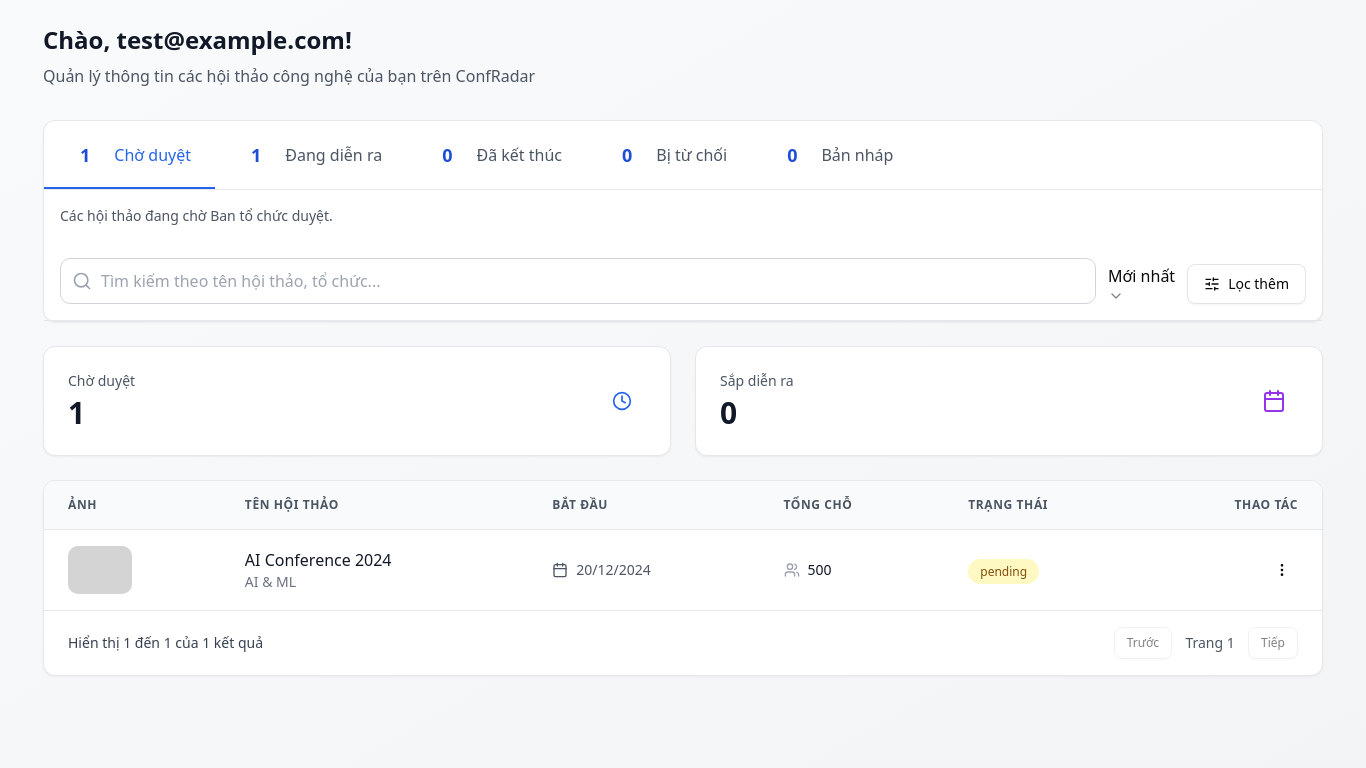
Test case: ConferenceManagementTabs Component › displays tab description based on active tab
The image size is (1366, 768).
Expected: the text "Các hội thảo đang chờ Ban tổ chức duyệt." is shown, x1=60 y1=206 x2=333 y2=225
Click the text "Bị từ chối" at (692, 155), box x1=656 y1=143 x2=727 y2=167
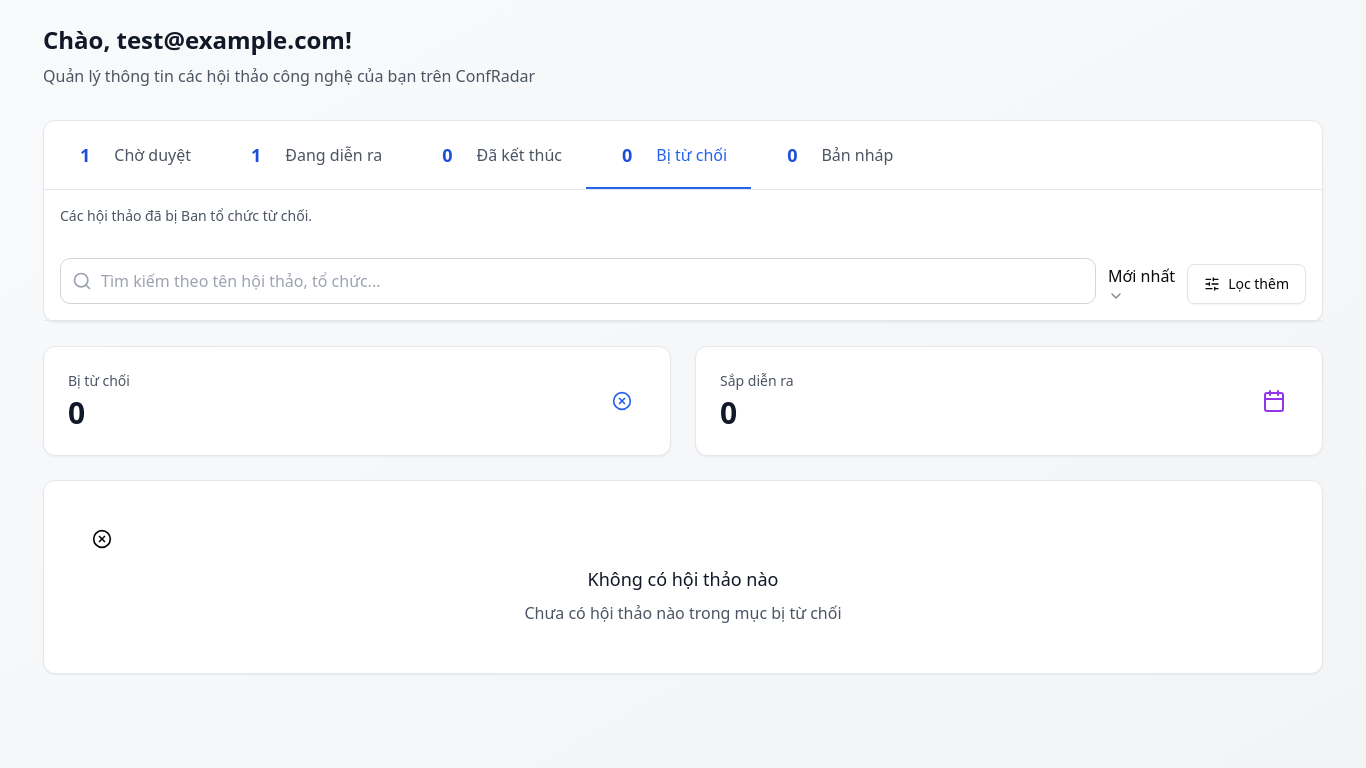
Result: the text "Các hội thảo đã bị Ban tổ chức từ chối." is shown at x1=60 y1=206 x2=312 y2=225
